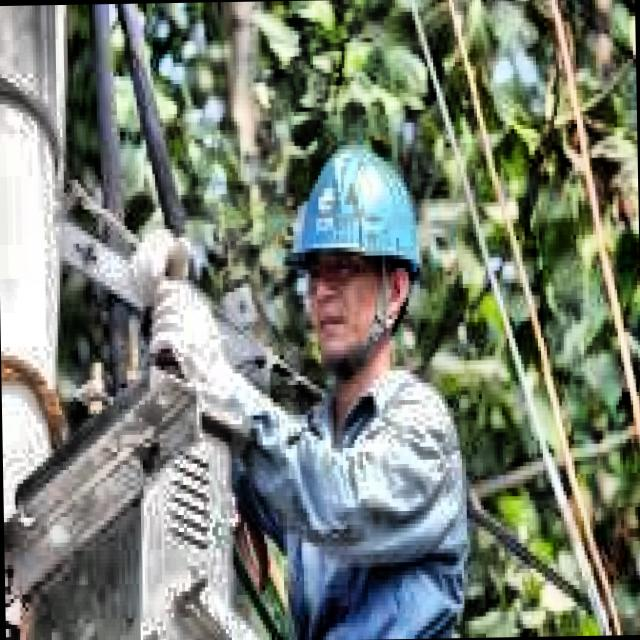helmet: (271, 118, 436, 398)
